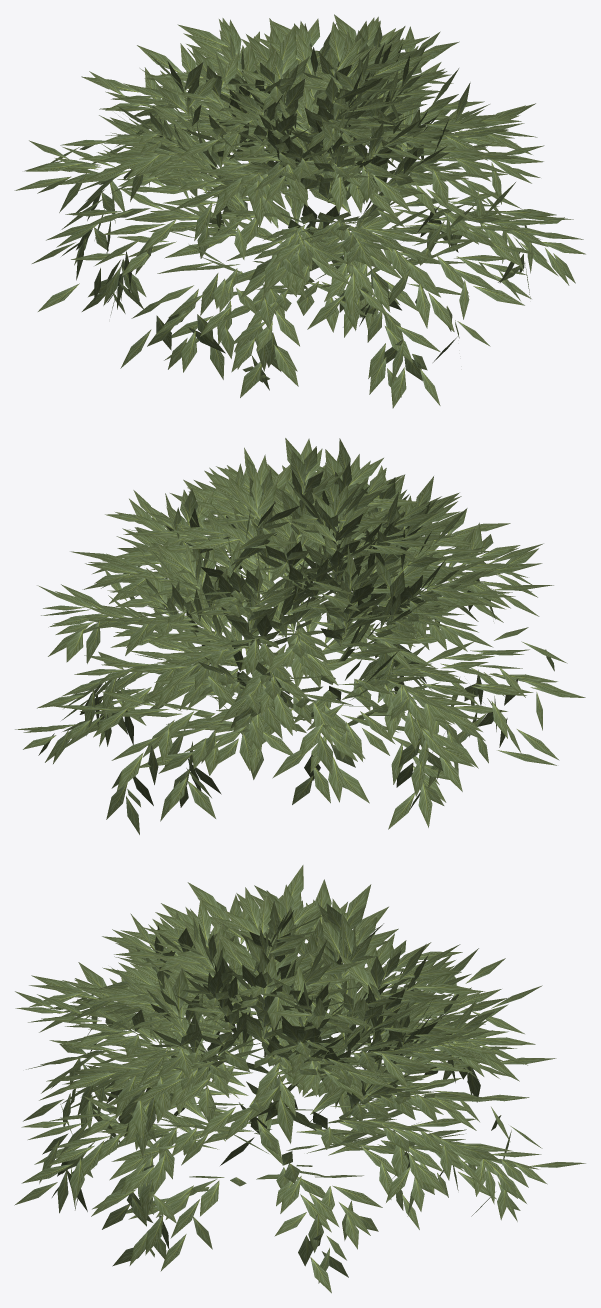
The model's file is Semak1.fbx.
3 views of the same model, one above another, from view 1: azimuth 30°, elevation 25°; view 2: azimuth 150°, elevation 25°; view 3: azimuth 270°, elevation 25° (orthographic). The views are drawn at different scales.
Visible parts, largest first — view 1: Semak; view 2: Semak; view 3: Semak.
Part boxes in pixels (x1,y1,x2,y2): Semak: (14,14,585,408); Semak: (15,438,585,834); Semak: (14,865,585,1293).
Size of the model in its own units: 334 by 204 by 333.
